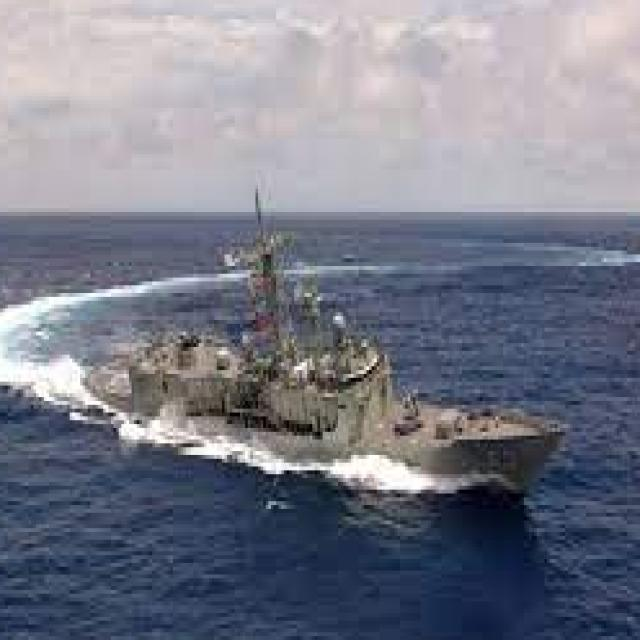navalvessels: (88, 192, 580, 522)
